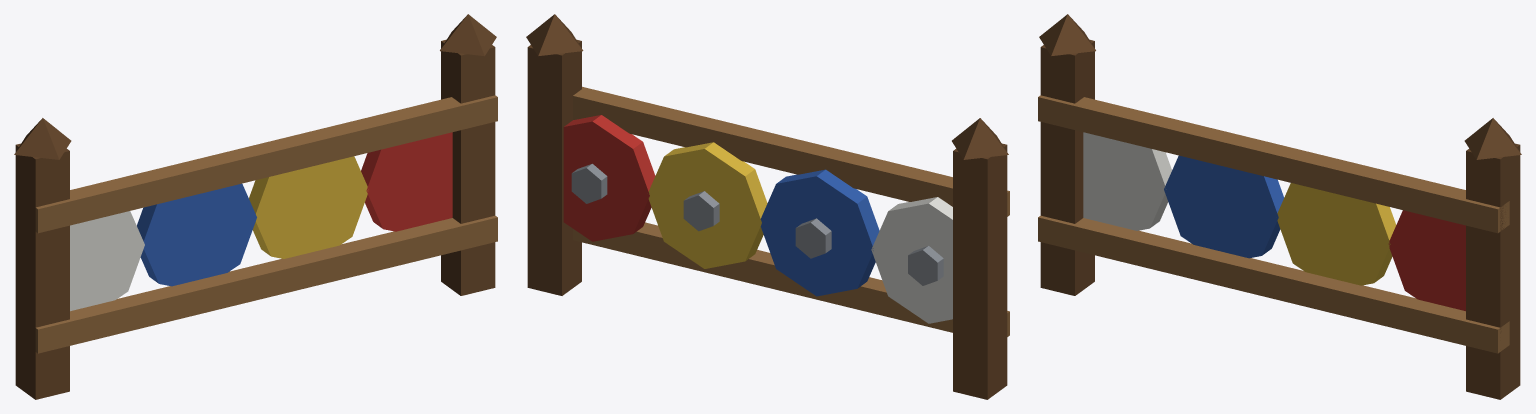
The model's file is Scatter_ShieldFence.fbx.
The picture shows the model from 3 angles, left to right: view 1: azimuth 30°, elevation 25°; view 2: azimuth 150°, elevation 25°; view 3: azimuth 330°, elevation 25°; orthographic projection.
Visible parts, largest first — view 1: ShieldFence; view 2: ShieldFence; view 3: ShieldFence.
Boxes of the visible parts, x1,y1,x2,y2 form: ShieldFence: (14,14,497,399); ShieldFence: (526,14,1009,399); ShieldFence: (1038,14,1521,399).
Bounding box in the file's own units: 8.4 × 4.5 × 1.
